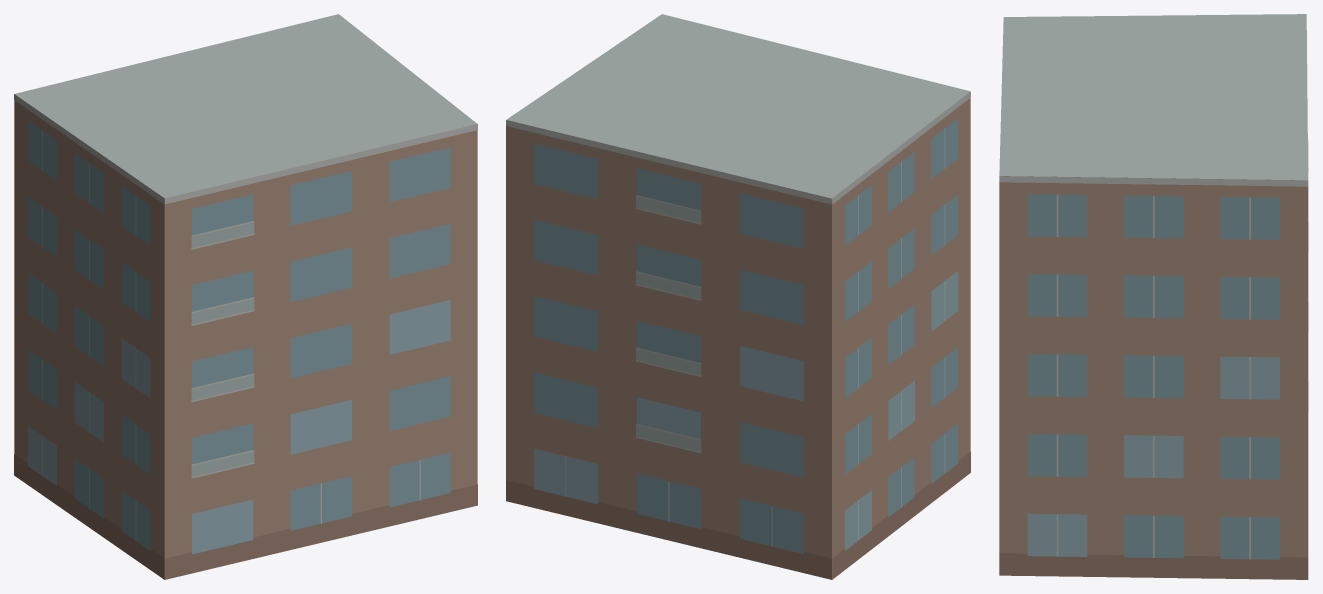
Rendered from survey-upis-32912704.glb.
3 renders of one model, left to right at view 1: azimuth 30°, elevation 25°; view 2: azimuth 150°, elevation 25°; view 3: azimuth 270°, elevation 25°, orthographic. The views are drawn at different scales.
Visible parts, largest first — view 1: survey-upis-32912704.tmp; view 2: survey-upis-32912704.tmp; view 3: survey-upis-32912704.tmp.
Boxes of the visible parts, <box> form: survey-upis-32912704.tmp: <box>14,14,477,579</box>; survey-upis-32912704.tmp: <box>506,14,970,579</box>; survey-upis-32912704.tmp: <box>999,14,1308,579</box>.
Bounding box in the file's own units: 13.76 × 15.4 × 10.81.
